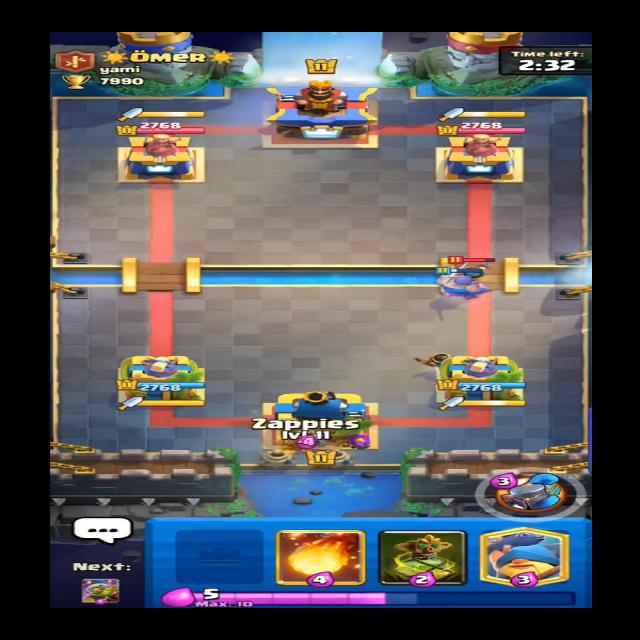mini-pekka: (443, 255, 502, 282)
